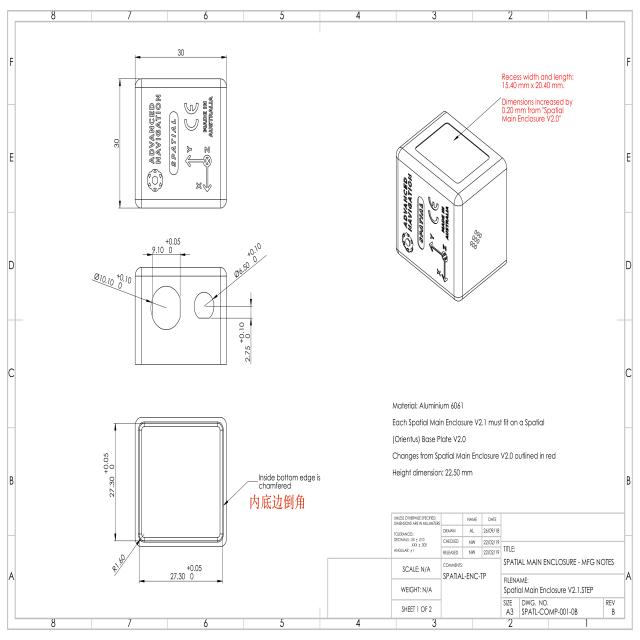dimension: (231, 238, 264, 282), (93, 267, 132, 291), (102, 451, 115, 499), (238, 321, 252, 364), (169, 563, 203, 580), (151, 236, 181, 255), (110, 550, 128, 574), (177, 47, 186, 57), (113, 137, 120, 149)
